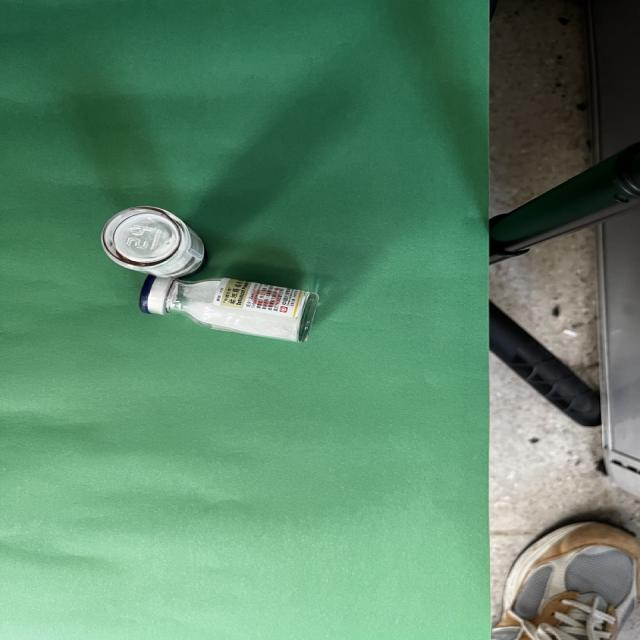Vials: (102, 206, 319, 342)
